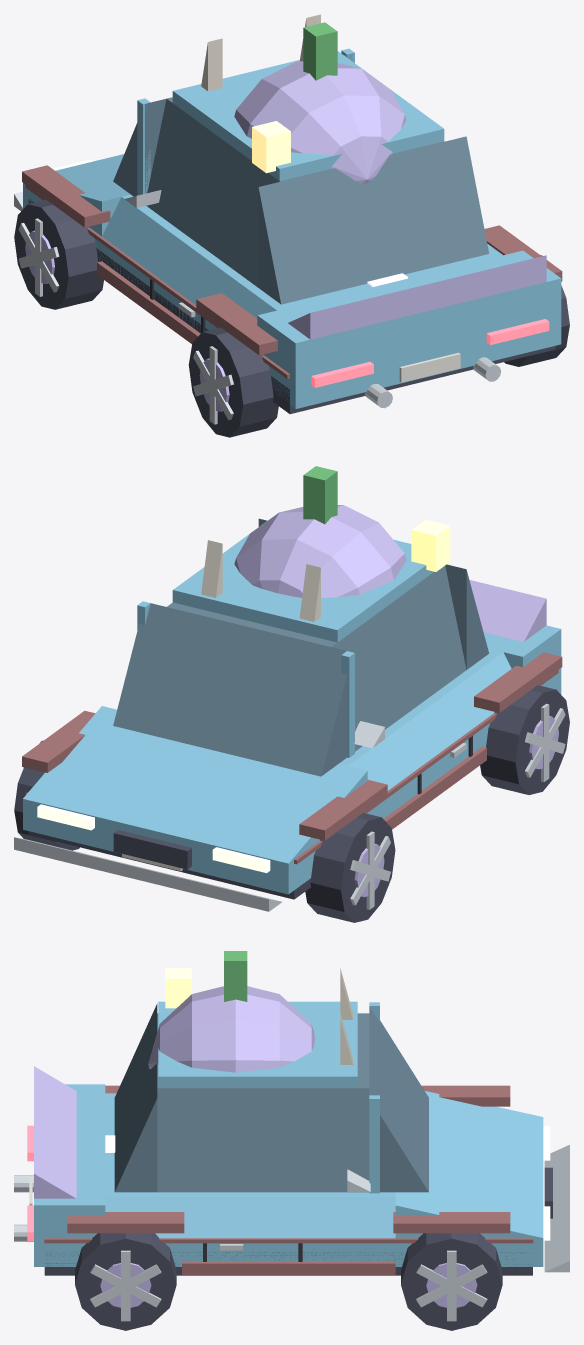
Rendered from dragonfruit_drifter.glb.
3 views of the same model, one above another, from view 1: azimuth 30°, elevation 25°; view 2: azimuth 150°, elevation 25°; view 3: azimuth 270°, elevation 25° (orthographic). The views are drawn at different scales.
Visible parts, largest first — view 1: RearWindow.223, Tail.124, CabinSideL.120, Fruit.005, Body.323, Roof.323, Ducktail.083, ShoulderL.120, Wheel_RL.263, Wheel_FL.263, Sill.319, BodyUpper.120 (+17 smaller); view 2: Windshield.223, Nose.120, CabinSideL.120, Fruit.005, Roof.323, Body.323, ShoulderL.120, Wheel_FL.263, Wheel_RL.263, Bumper.319, Ducktail.083, Arch-1True.179 (+21 smaller); view 3: CabinSideR.120, Nose.120, Fruit.005, ShoulderR.120, Roof.323, Windshield.223, Body.323, RearWindow.223, Wheel_RR.263, Wheel_FR.263, Tail.124, Ducktail.083 (+20 smaller).
Boxes of the visible parts, left/top/right/bottom form: RearWindow.223: left=258, top=136, right=489, bottom=304; Tail.124: left=257, top=250, right=561, bottom=378; CabinSideL.120: left=146, top=99, right=279, bottom=287; Fruit.005: left=234, top=61, right=406, bottom=183; Body.323: left=23, top=183, right=561, bottom=408; Roof.323: left=172, top=51, right=444, bottom=181; Ducktail.083: left=288, top=255, right=546, bottom=339; ShoulderL.120: left=102, top=197, right=276, bottom=318; Wheel_RL.263: left=188, top=327, right=278, bottom=437; Wheel_FL.263: left=14, top=199, right=103, bottom=309; Sill.319: left=28, top=199, right=555, bottom=414; BodyUpper.120: left=122, top=194, right=502, bottom=310; Windshield.223: left=113, top=603, right=347, bottom=776; Nose.120: left=23, top=706, right=367, bottom=863; CabinSideL.120: left=331, top=566, right=466, bottom=751; Fruit.005: left=234, top=505, right=406, bottom=597; Roof.323: left=172, top=512, right=433, bottom=642; Body.323: left=23, top=668, right=561, bottom=894; ShoulderL.120: left=348, top=652, right=511, bottom=790; Wheel_FL.263: left=305, top=813, right=395, bottom=922; Wheel_RL.263: left=480, top=685, right=569, bottom=794; Bumper.319: left=14, top=837, right=281, bottom=911; Ducktail.083: left=469, top=580, right=546, bottom=641; Arch-1True.179: left=474, top=652, right=562, bottom=712; CabinSideR.120: left=157, top=1088, right=369, bottom=1192; Nose.120: left=395, top=1091, right=543, bottom=1238; Fruit.005: left=148, top=986, right=314, bottom=1072; ShoulderR.120: left=105, top=1196, right=395, bottom=1238; Roof.323: left=158, top=1001, right=357, bottom=1088; Windshield.223: left=369, top=1006, right=428, bottom=1192; Body.323: left=34, top=1238, right=543, bottom=1266; RearWindow.223: left=114, top=1003, right=157, bottom=1192; Wheel_RR.263: left=75, top=1233, right=176, bottom=1330; Wheel_FR.263: left=401, top=1233, right=502, bottom=1330; Tail.124: left=34, top=1084, right=105, bottom=1238; Ducktail.083: left=34, top=1066, right=76, bottom=1198.
Size of the model in its own units: 3.4 by 3.13 by 5.24.
